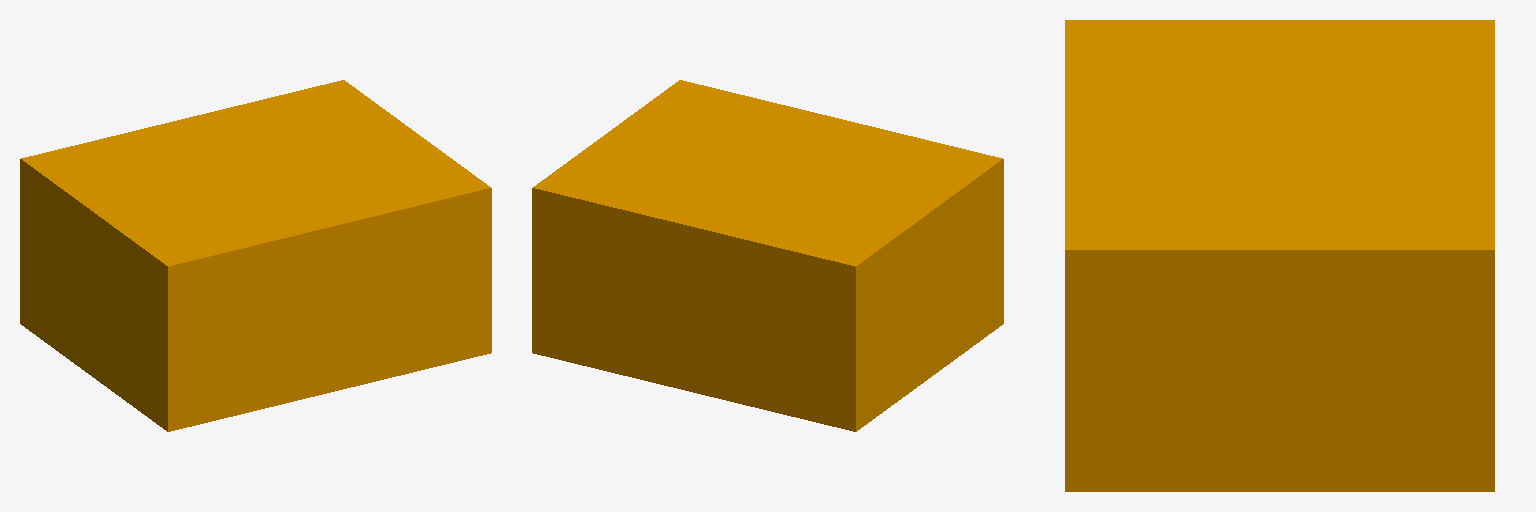
robot.urdf — object:
<?xml version="1.0"?>
<!-- Auto-generated by tools/gen_primitive_objects.py. kind=box dims=(0.093912, 0.074198, 0.045924) -->
<robot name="object">
  <link name="object">
    <visual>
      <origin xyz="0 0 0"/>
      <geometry>
        <box size="0.093912 0.074198 0.045924"/>
      </geometry>
    </visual>
    <collision>
      <origin xyz="0 0 0"/>
      <geometry>
        <box size="0.093912 0.074198 0.045924"/>
      </geometry>
    </collision>
    <inertial>
      <mass value="0.064000"/>
      <inertia ixx="0.00004061" ixy="0.0" ixz="0.0" iyy="0.00005829" iyz="0.0" izz="0.00007640"/>
    </inertial>
  </link>
</robot>

--- What the picture shows (computed from the rendered views, not written in the file) ---
The picture shows the robot from 3 angles, left to right: view 1: azimuth 30°, elevation 25°; view 2: azimuth 150°, elevation 25°; view 3: azimuth 270°, elevation 25°; orthographic projection.
Robot: object — 1 links, 0 joints (none); root link object; default pose: every joint at zero.
Visible links, largest first — view 1: object; view 2: object; view 3: object.
Boxes of the visible links, <box> form: object: <box>20,80,491,431</box>; object: <box>532,80,1003,431</box>; object: <box>1065,20,1494,491</box>.
Bounding box of the posed robot: 0.0939 × 0.0742 × 0.0459 m (x, y, z).
Geometry: primitives only (box / cylinder / sphere), no mesh files.
